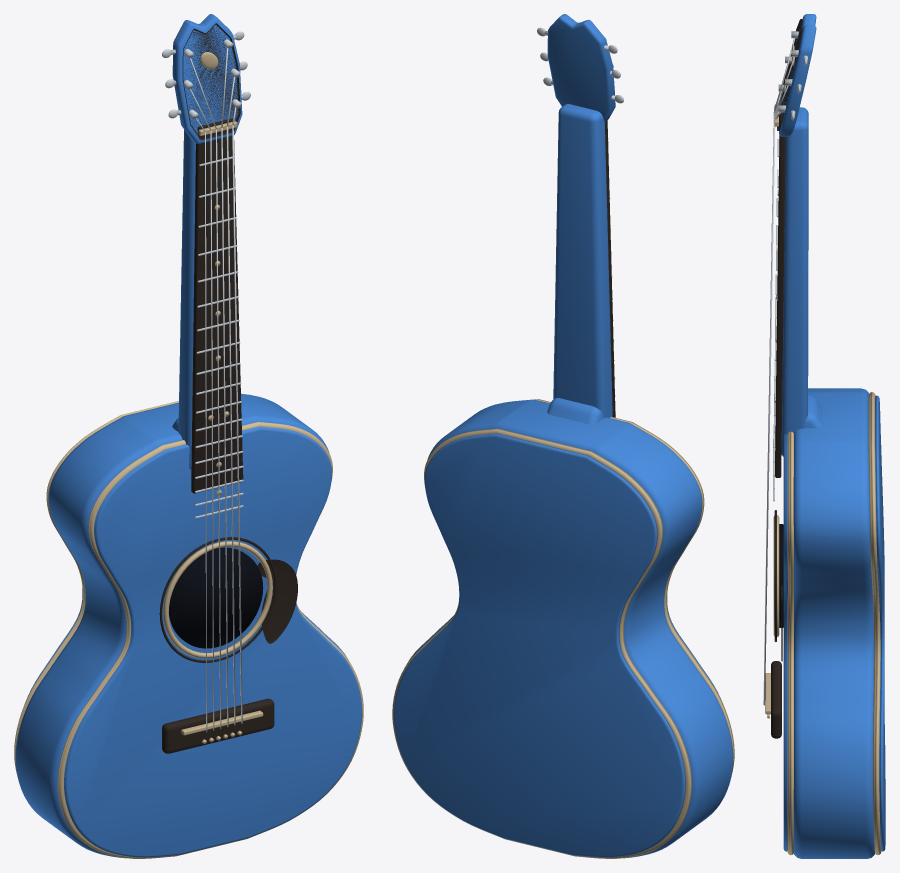
Rendered from guitar.glb.
3 renders of one model, left to right at view 1: azimuth 30°, elevation 25°; view 2: azimuth 150°, elevation 25°; view 3: azimuth 270°, elevation 25°, orthographic. The views are drawn at different scales.
Visible parts, largest first — view 1: TKA_Guitar_Soundboard, TKA_Guitar_BodyShell, TKA_Guitar_Fretboard, TKA_Guitar_SixStrings, TKA_Guitar_SoundHole, TKA_Guitar_Headstock, TKA_Guitar_NeckGrip, TKA_Guitar_FrontBinding, TKA_Guitar_HeadstockFace, TKA_Guitar_Bridge, TKA_Guitar_RosetteOuter, TKA_Guitar_Pickguard (+4 smaller); view 2: TKA_Guitar_Back, TKA_Guitar_BodyShell, TKA_Guitar_NeckGrip, TKA_Guitar_Headstock, TKA_Guitar_RearBinding, TKA_Guitar_FrontBinding, TKA_Guitar_Fretboard, TKA_Guitar_NeckHeel; view 3: TKA_Guitar_BodyShell, TKA_Guitar_NeckGrip, TKA_Guitar_RearBinding, TKA_Guitar_FrontBinding, TKA_Guitar_Back, TKA_Guitar_Fretboard, TKA_Guitar_Soundboard, TKA_Guitar_Headstock, TKA_Guitar_SixStrings, TKA_Guitar_Bridge, TKA_Guitar_Frets, TKA_Guitar_RosetteOuter (+5 smaller).
Part boxes in pixels (x1,y1,x2,y2): TKA_Guitar_Soundboard: [64, 426, 362, 857]; TKA_Guitar_BodyShell: [15, 393, 348, 858]; TKA_Guitar_Fretboard: [191, 118, 243, 493]; TKA_Guitar_SixStrings: [189, 47, 242, 732]; TKA_Guitar_SoundHole: [168, 547, 263, 648]; TKA_Guitar_Headstock: [172, 14, 242, 143]; TKA_Guitar_NeckGrip: [178, 129, 195, 469]; TKA_Guitar_FrontBinding: [57, 422, 363, 858]; TKA_Guitar_HeadstockFace: [182, 23, 240, 140]; TKA_Guitar_Bridge: [162, 698, 274, 753]; TKA_Guitar_RosetteOuter: [163, 541, 272, 658]; TKA_Guitar_Pickguard: [257, 559, 297, 643]; TKA_Guitar_Back: [393, 433, 685, 857]; TKA_Guitar_BodyShell: [409, 399, 733, 858]; TKA_Guitar_NeckGrip: [553, 104, 612, 418]; TKA_Guitar_Headstock: [547, 14, 615, 121]; TKA_Guitar_RearBinding: [392, 428, 691, 858]; TKA_Guitar_FrontBinding: [534, 399, 734, 773]; TKA_Guitar_Fretboard: [605, 120, 615, 417]; TKA_Guitar_NeckHeel: [547, 398, 603, 424]; TKA_Guitar_BodyShell: [793, 388, 874, 858]; TKA_Guitar_NeckGrip: [781, 107, 808, 456]; TKA_Guitar_RearBinding: [868, 392, 881, 854]; TKA_Guitar_FrontBinding: [787, 431, 793, 855]; TKA_Guitar_Back: [875, 395, 885, 851]; TKA_Guitar_Fretboard: [775, 103, 785, 477]; TKA_Guitar_Soundboard: [783, 434, 787, 851]; TKA_Guitar_Headstock: [779, 14, 816, 136]; TKA_Guitar_SixStrings: [763, 38, 795, 705]; TKA_Guitar_Bridge: [771, 661, 781, 738]; TKA_Guitar_Frets: [773, 139, 779, 501]; TKA_Guitar_RosetteOuter: [773, 515, 779, 636].
Bounding box in the file's own units: 0.3176 × 0.8129 × 0.1101.
